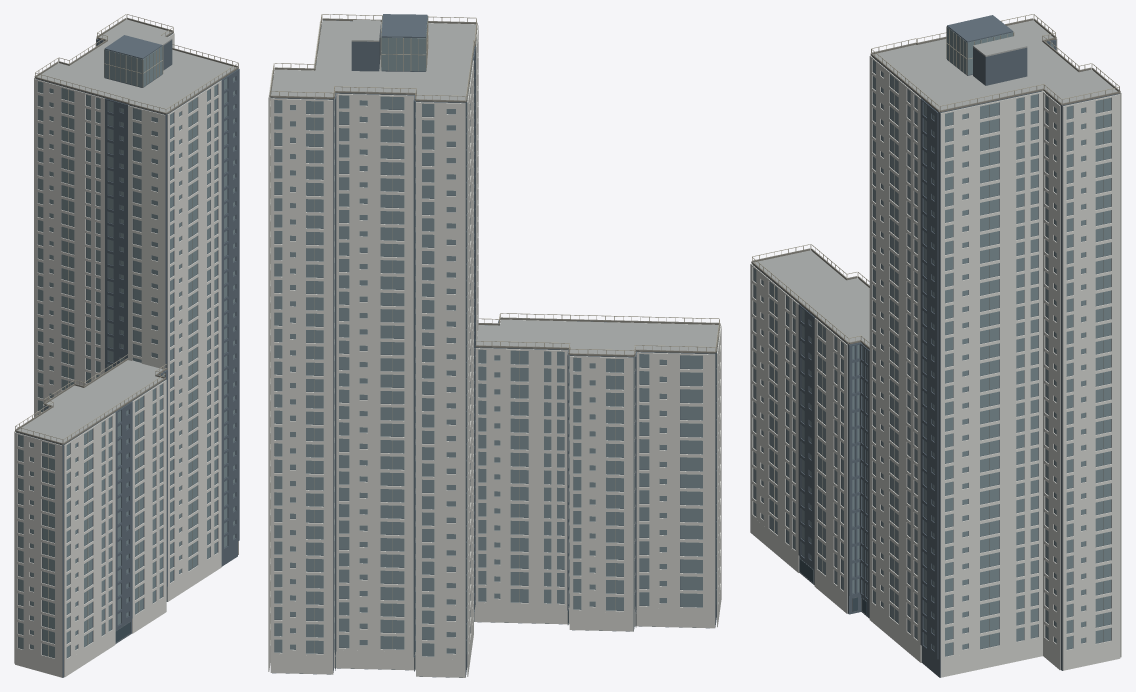
Rendered from bespoke-raemian-onebailey-108.glb.
3 renders of one model, left to right at view 1: azimuth 30°, elevation 25°; view 2: azimuth 150°, elevation 25°; view 3: azimuth 270°, elevation 25°, orthographic. The views are drawn at different scales.
Parts seen in each view (by area): view 1: 108_pale_bays_navy_shafts001_4, 108_pale_bays_navy_shafts001, 108_editable_massing, 108_glass_roof_crown001_3, 108_pale_bays_navy_shafts001_2, 108_glass_roof_crown001; view 2: 108_pale_bays_navy_shafts001_4, 108_pale_bays_navy_shafts001, 108_editable_massing, 108_glass_roof_crown001_3, 108_pale_bays_navy_shafts001_2, 108_glass_roof_crown001; view 3: 108_pale_bays_navy_shafts001_4, 108_pale_bays_navy_shafts001, 108_editable_massing, 108_glass_roof_crown001_3, 108_pale_bays_navy_shafts001_2, 108_glass_roof_crown001.
Boxes of the visible parts, box(x1,y1,x2,y2) form: 108_pale_bays_navy_shafts001_4: box(14, 33, 238, 677); 108_pale_bays_navy_shafts001: box(18, 41, 234, 657); 108_editable_massing: box(16, 33, 239, 677); 108_glass_roof_crown001_3: box(17, 19, 236, 444); 108_pale_bays_navy_shafts001_2: box(15, 14, 238, 656); 108_glass_roof_crown001: box(15, 17, 238, 444); 108_pale_bays_navy_shafts001_4: box(268, 21, 721, 677); 108_pale_bays_navy_shafts001: box(271, 15, 718, 656); 108_editable_massing: box(271, 14, 717, 677); 108_glass_roof_crown001_3: box(271, 20, 718, 356); 108_pale_bays_navy_shafts001_2: box(270, 14, 719, 653); 108_glass_roof_crown001: box(269, 18, 720, 356); 108_pale_bays_navy_shafts001_4: box(750, 21, 1121, 677); 108_pale_bays_navy_shafts001: box(754, 26, 1110, 656); 108_editable_massing: box(752, 15, 1118, 677); 108_glass_roof_crown001_3: box(754, 20, 1117, 346); 108_pale_bays_navy_shafts001_2: box(752, 14, 1119, 646); 108_glass_roof_crown001: box(751, 18, 1120, 349).
Bounding box in the file's own units: 62.13 × 110 × 61.35.
